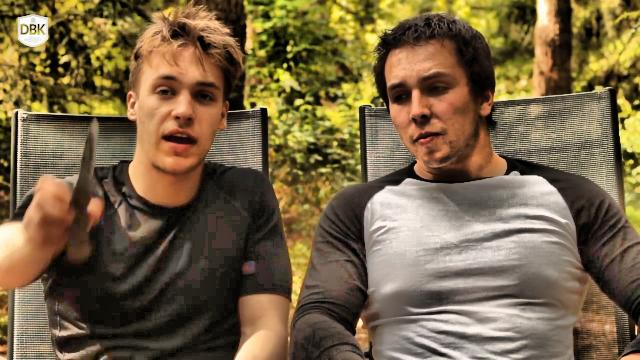knife: (54, 111, 106, 217)
